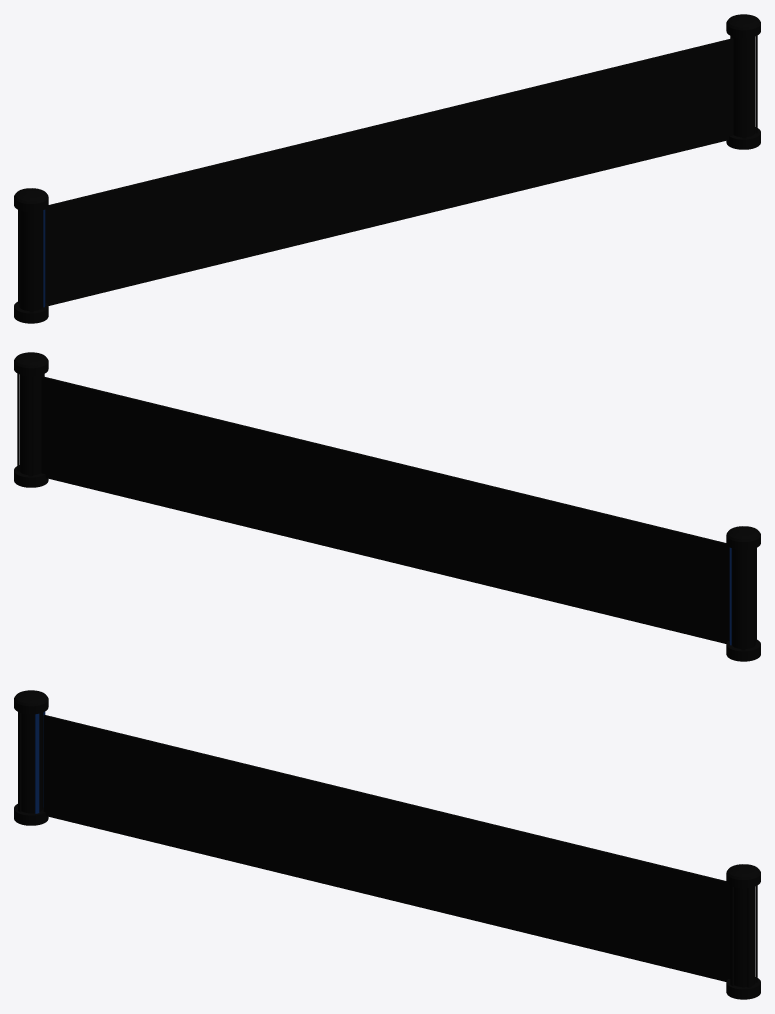
Rendered from tennisNet.fbx.
3 views of the same model, one above another, from view 1: azimuth 30°, elevation 25°; view 2: azimuth 150°, elevation 25°; view 3: azimuth 330°, elevation 25° (orthographic).
Parts seen in each view (by area): view 1: net-un, Cylinder, Cylinder.001, Cylinder.004, Cylinder.002, Cube.005; view 2: net-un, Cylinder, Cylinder.001, Cylinder.004, Cylinder.002, Cube.005; view 3: net-un, Cylinder, Cylinder.001, Cylinder.002, Cylinder.004, Cube.007, Cube.002.
Part boxes in pixels (box(x1,y1,x2,y2)): net-un: box(45, 38, 733, 305); Cylinder: box(19, 210, 43, 310); Cylinder.001: box(731, 36, 755, 137); Cylinder.004: box(726, 14, 760, 38); Cylinder.002: box(14, 188, 48, 212); Cube.005: box(18, 210, 33, 312); net-un: box(41, 376, 729, 643); Cylinder: box(731, 548, 755, 648); Cylinder.001: box(19, 374, 43, 475); Cylinder.004: box(14, 352, 48, 376); Cylinder.002: box(726, 526, 760, 550); Cube.005: box(741, 548, 756, 650); net-un: box(43, 715, 730, 981); Cylinder: box(21, 712, 43, 813); Cylinder.001: box(734, 886, 755, 987); Cylinder.002: box(14, 690, 48, 714); Cylinder.004: box(726, 864, 760, 888); Cube.007: box(747, 885, 757, 987); Cube.002: box(35, 711, 45, 813).
Size of the model in its own units: 2290 by 364 by 92.5.
2 materials, 1 textured.
